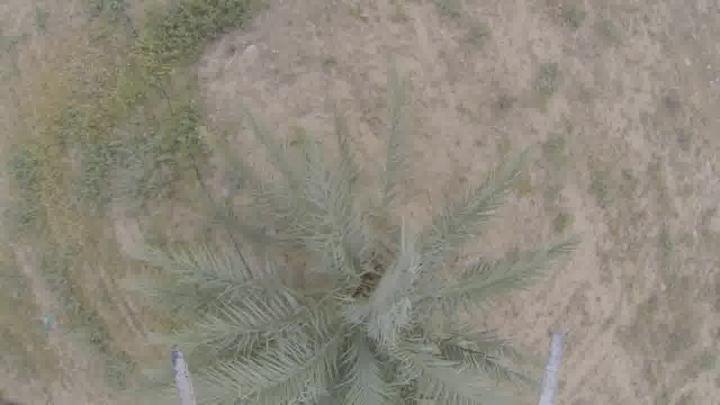Date-Palm-Crown: (226, 215, 464, 405)
